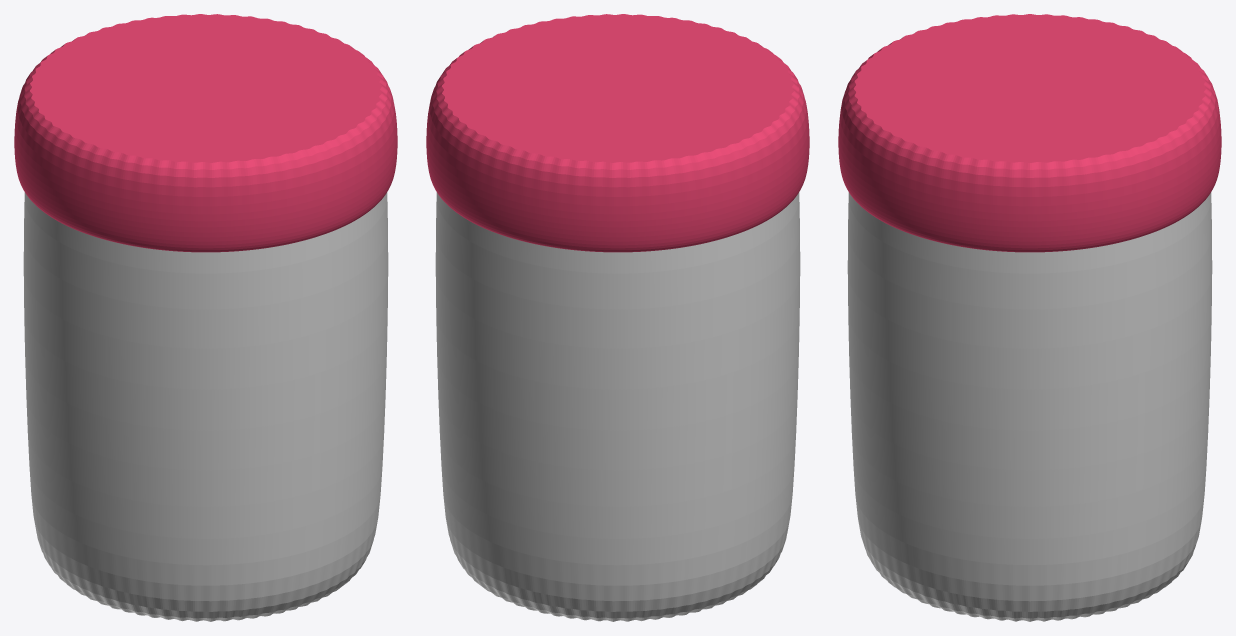
The model's file is Bottle.fbx.
3 views of the same model, side by side, from view 1: azimuth 30°, elevation 25°; view 2: azimuth 150°, elevation 25°; view 3: azimuth 270°, elevation 25° (orthographic).
Parts seen in each view (by area): view 1: Bottle, Cover; view 2: Bottle, Cover; view 3: Bottle, Cover.
Boxes of the visible parts, bbox=[...] form: Bottle: bbox=[23, 192, 388, 621]; Cover: bbox=[14, 14, 397, 252]; Bottle: bbox=[435, 192, 800, 621]; Cover: bbox=[426, 14, 809, 252]; Bottle: bbox=[847, 192, 1212, 621]; Cover: bbox=[838, 14, 1221, 252].
Bounding box in the file's own units: 203 × 283 × 203.
